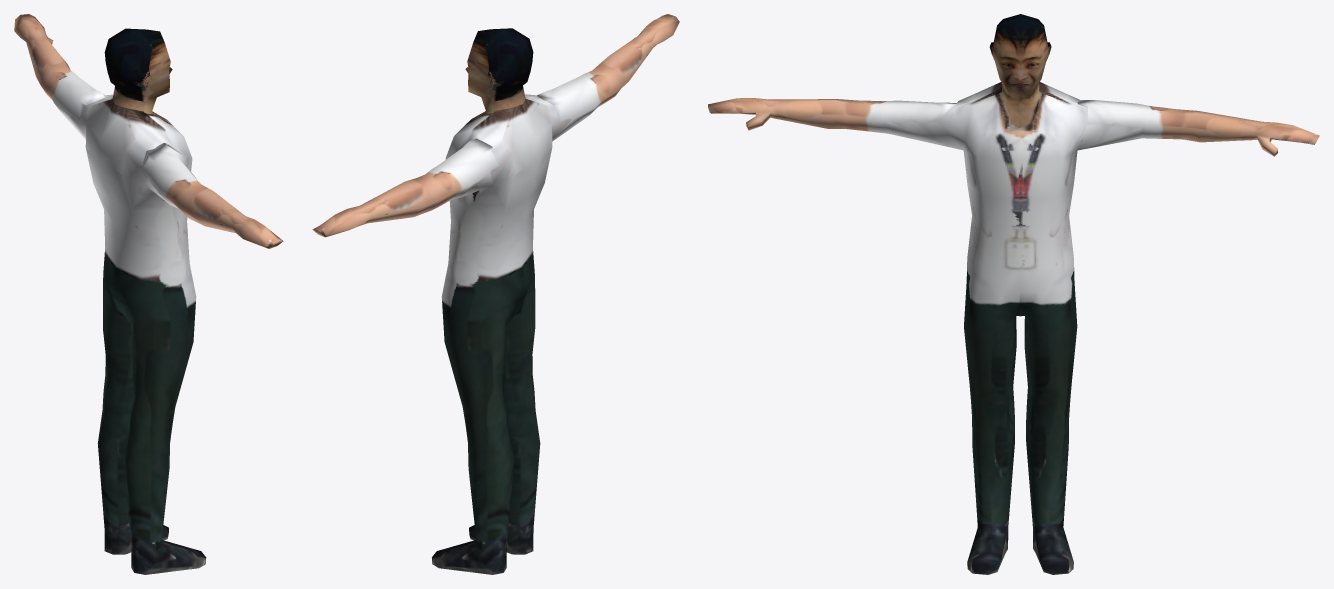
Rendered from bene.obj.
The picture shows the model from 3 angles, left to right: view 1: azimuth 30°, elevation 25°; view 2: azimuth 150°, elevation 25°; view 3: azimuth 270°, elevation 25°; orthographic projection.
Parts seen in each view (by area): view 1: bene; view 2: bene; view 3: bene.
Boxes of the visible parts, x1,y1,x2,y2 form: bene: [14, 14, 283, 574]; bene: [312, 14, 679, 574]; bene: [708, 14, 1319, 574].
Size of the model in its own units: 0.793 by 4.65 by 4.83.
